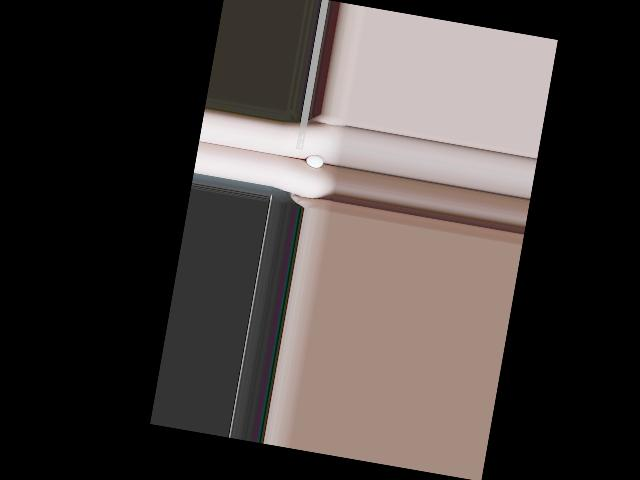egg: (305, 153, 323, 168)
